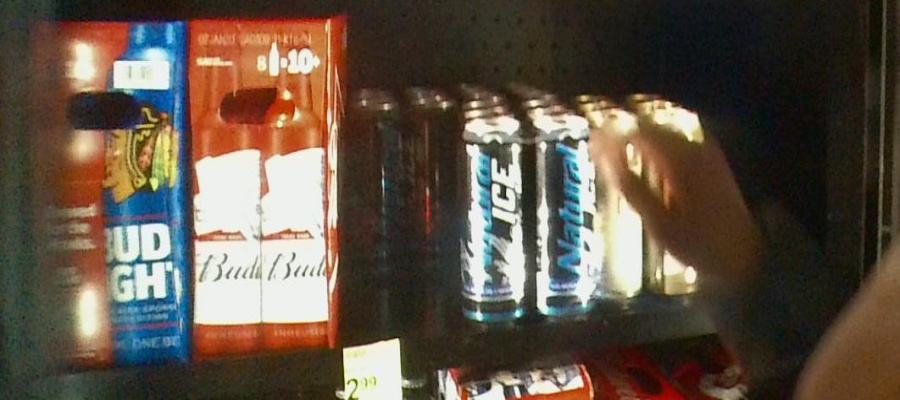bottle: (29, 20, 194, 372), (196, 24, 343, 361), (463, 122, 531, 339), (538, 114, 594, 319), (359, 59, 400, 277), (405, 70, 449, 271)
